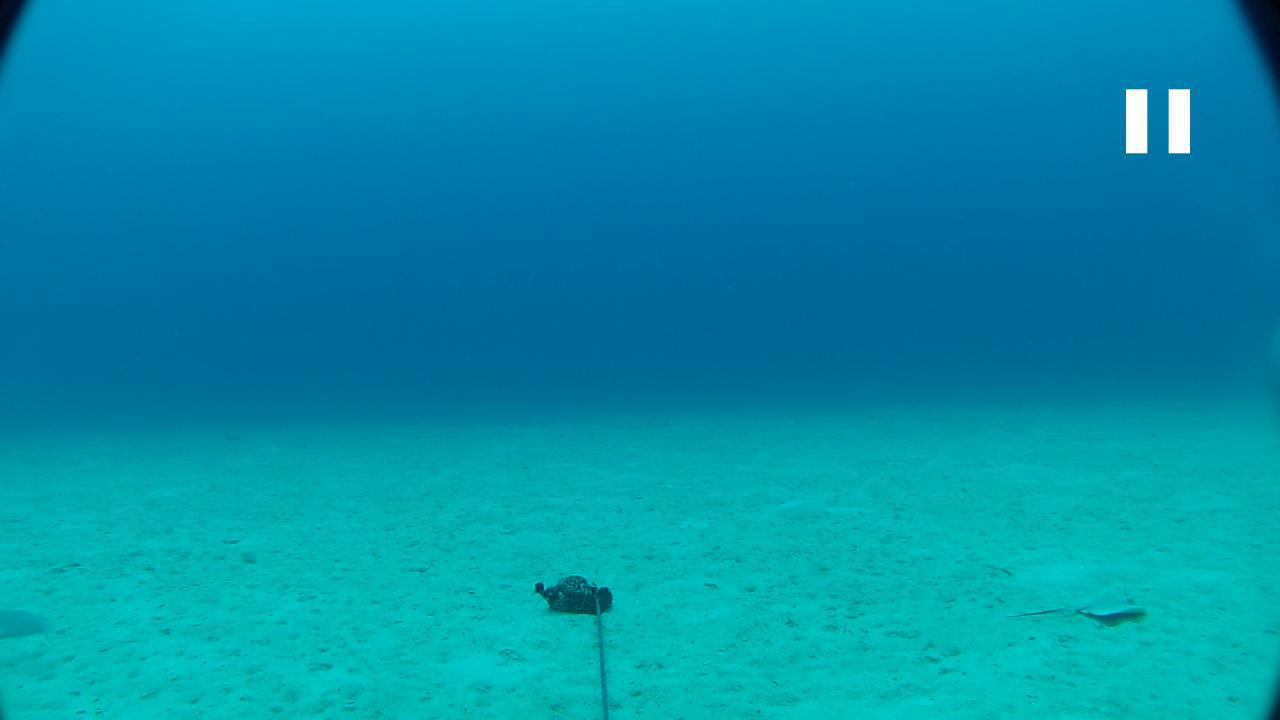dasyatis: (1001, 593, 1146, 621)
